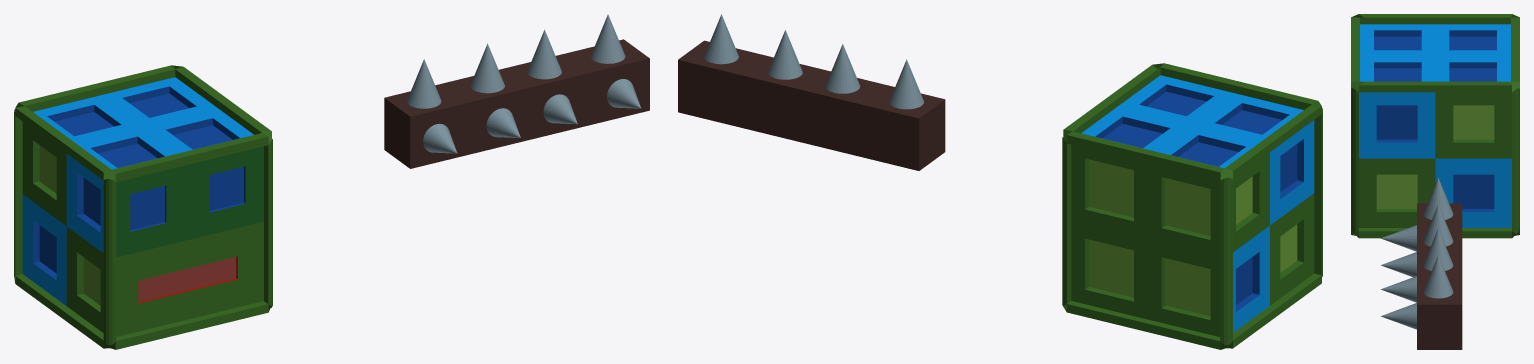
File: Models.fbx
3 views of the same model, side by side, from view 1: azimuth 30°, elevation 25°; view 2: azimuth 150°, elevation 25°; view 3: azimuth 270°, elevation 25° (orthographic). The views are drawn at different scales.
Visible parts, largest first — view 1: Cube, Cube.001; view 2: Cube, Cube.001; view 3: Cube, Cube.001.
Part boxes in pixels (x1,y1,x2,y2): Cube: (14, 65, 272, 349); Cube.001: (384, 14, 649, 168); Cube: (1062, 63, 1322, 349); Cube.001: (678, 14, 945, 170); Cube: (1351, 14, 1519, 238); Cube.001: (1381, 177, 1462, 349).
Bounding box in the file's own units: 6.89 × 2 × 2.
